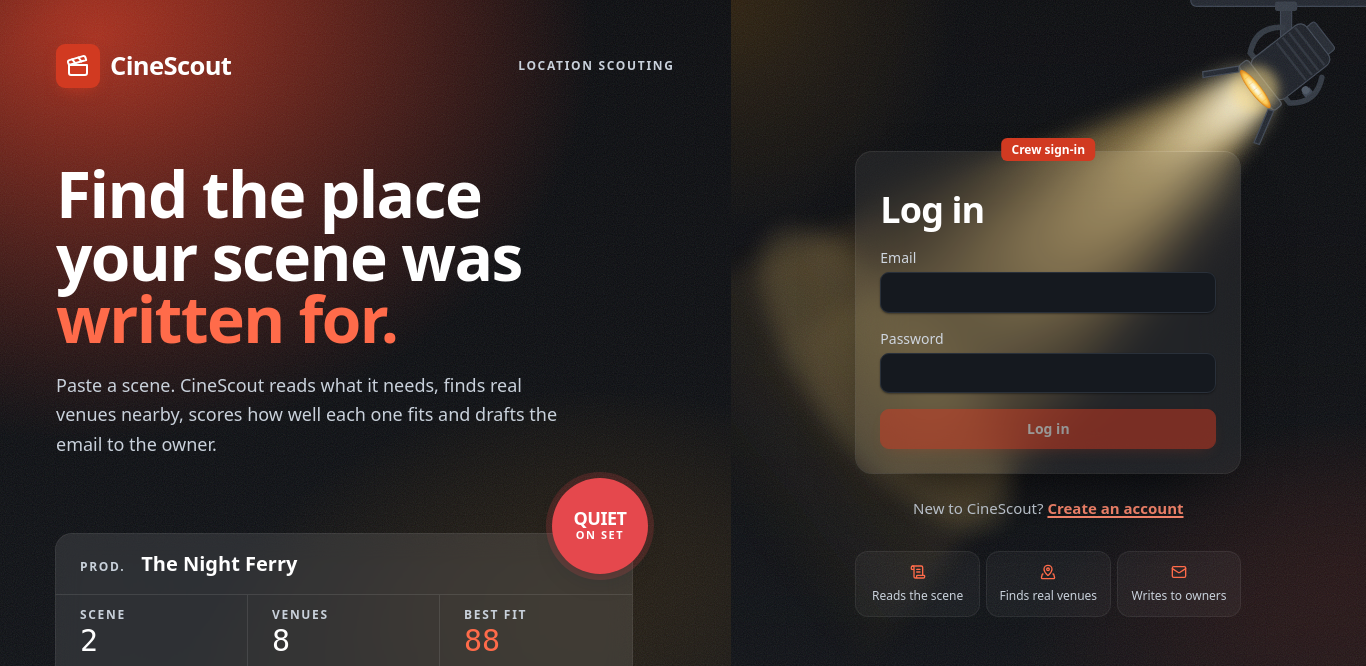
Test: follow-ups › say plainly when the AI cannot write one
In the field labelled "Email": (1048, 293) [880,272,1216,313], type "ada@example.com"
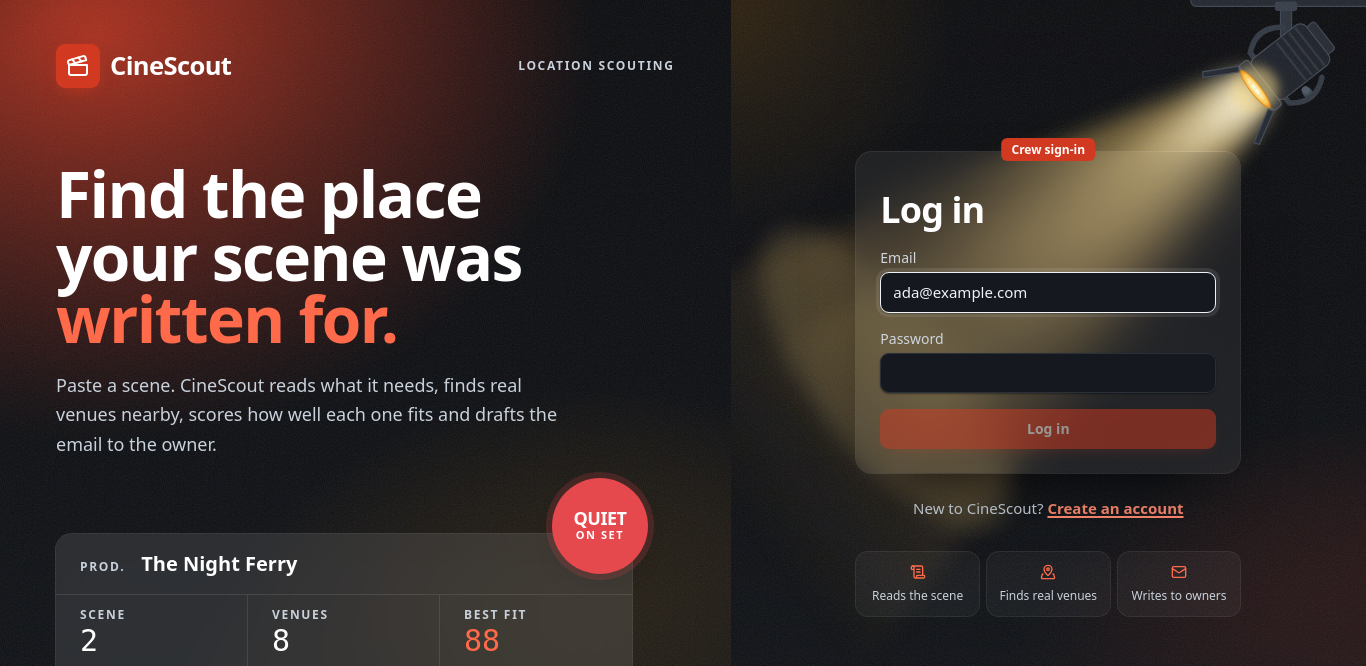
In the password field labelled "Password": (1048, 373) [880,353,1216,393], type "a-long-password"
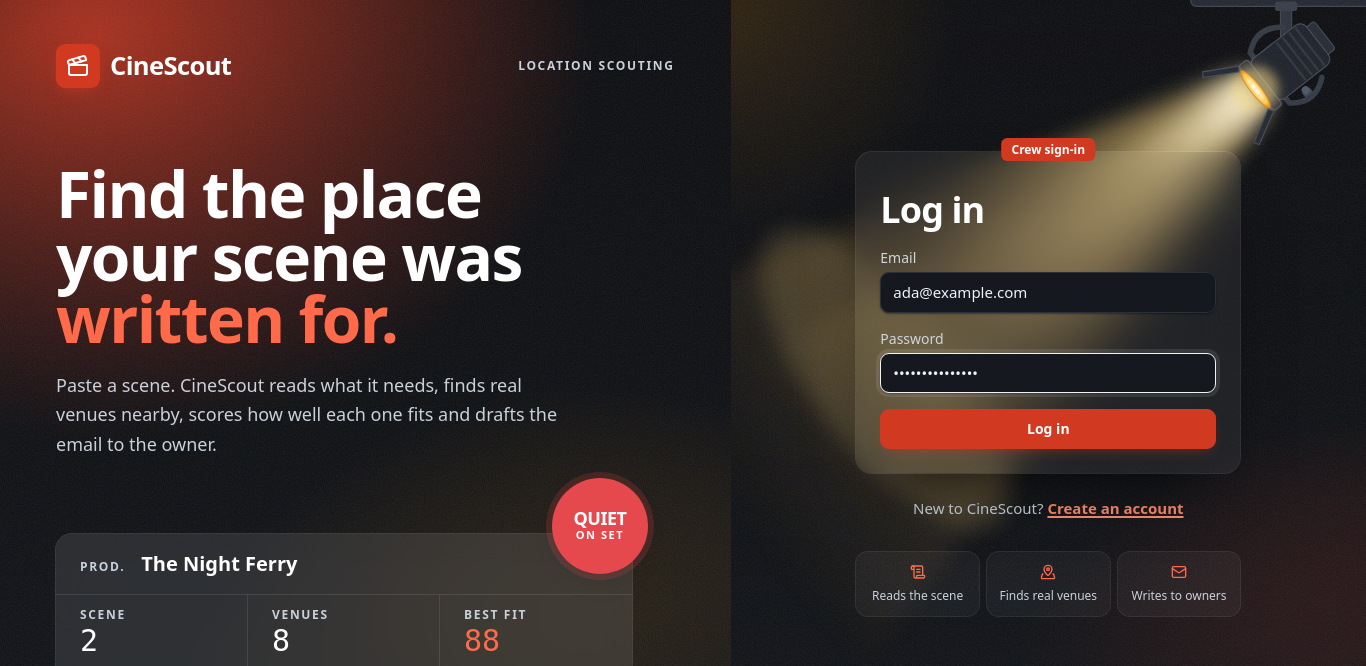
Click the button "Log in": (1048, 429) [880,409,1216,449]
(page scrolled)
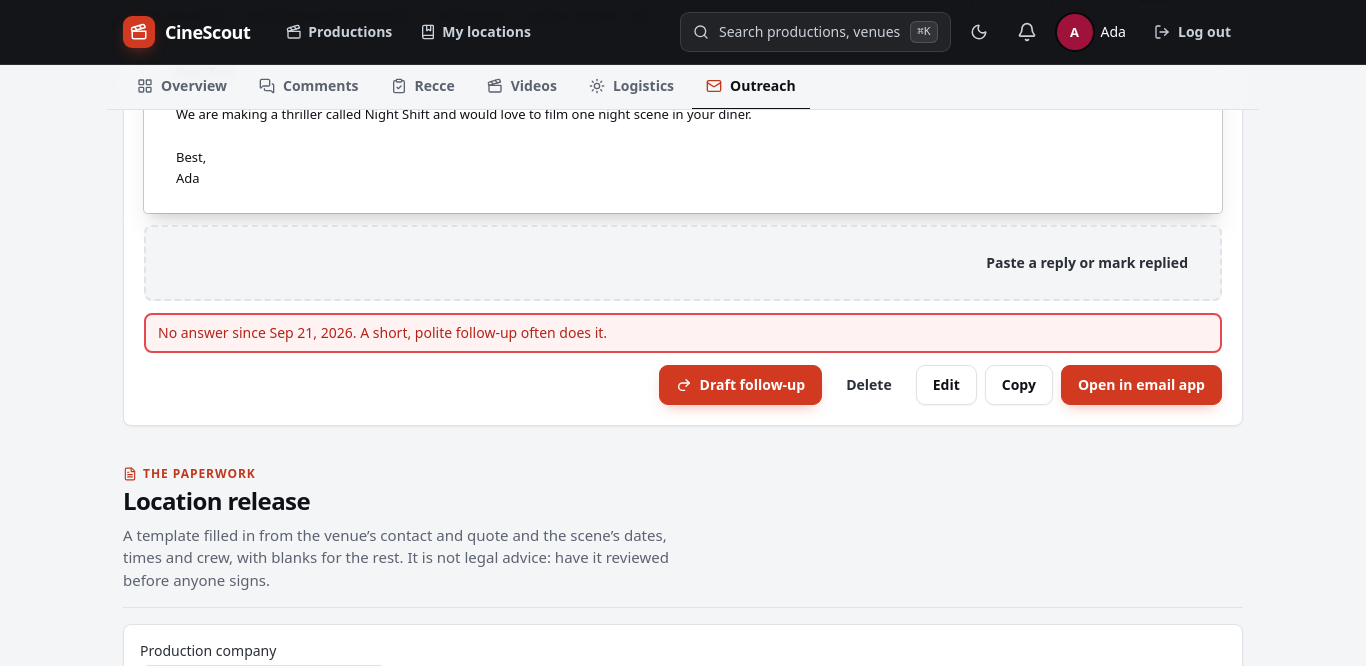
Click the button "Draft follow-up": (740, 385) [659,365,822,405]
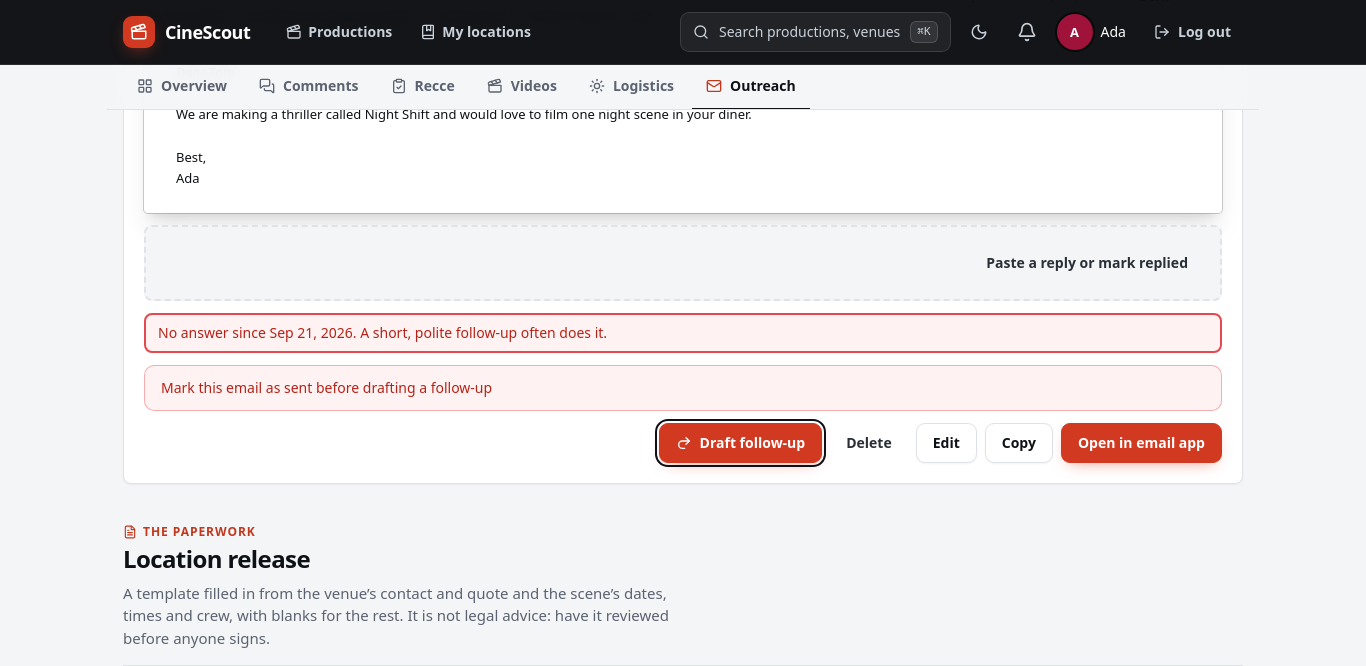
Expected: the message reads "Mark this email as sent before drafting a follow-up", [161,378,492,397]
